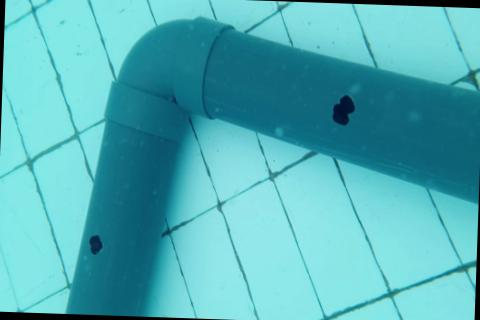kebocoran: (330, 92, 355, 127), (89, 232, 104, 254)
